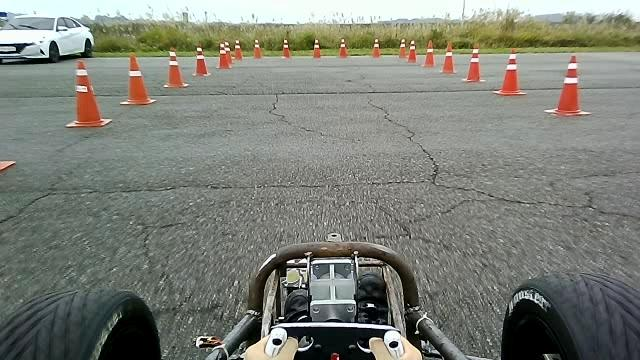red cone: (64, 58, 112, 127), (544, 54, 591, 115), (120, 53, 156, 105), (492, 48, 526, 95), (163, 46, 188, 88), (462, 43, 485, 82), (192, 41, 211, 76), (440, 41, 456, 73), (421, 38, 435, 66), (406, 39, 417, 63), (281, 37, 291, 58), (233, 39, 243, 60), (252, 38, 262, 58), (338, 37, 348, 57), (371, 37, 380, 57), (312, 38, 321, 57), (398, 38, 406, 57)
